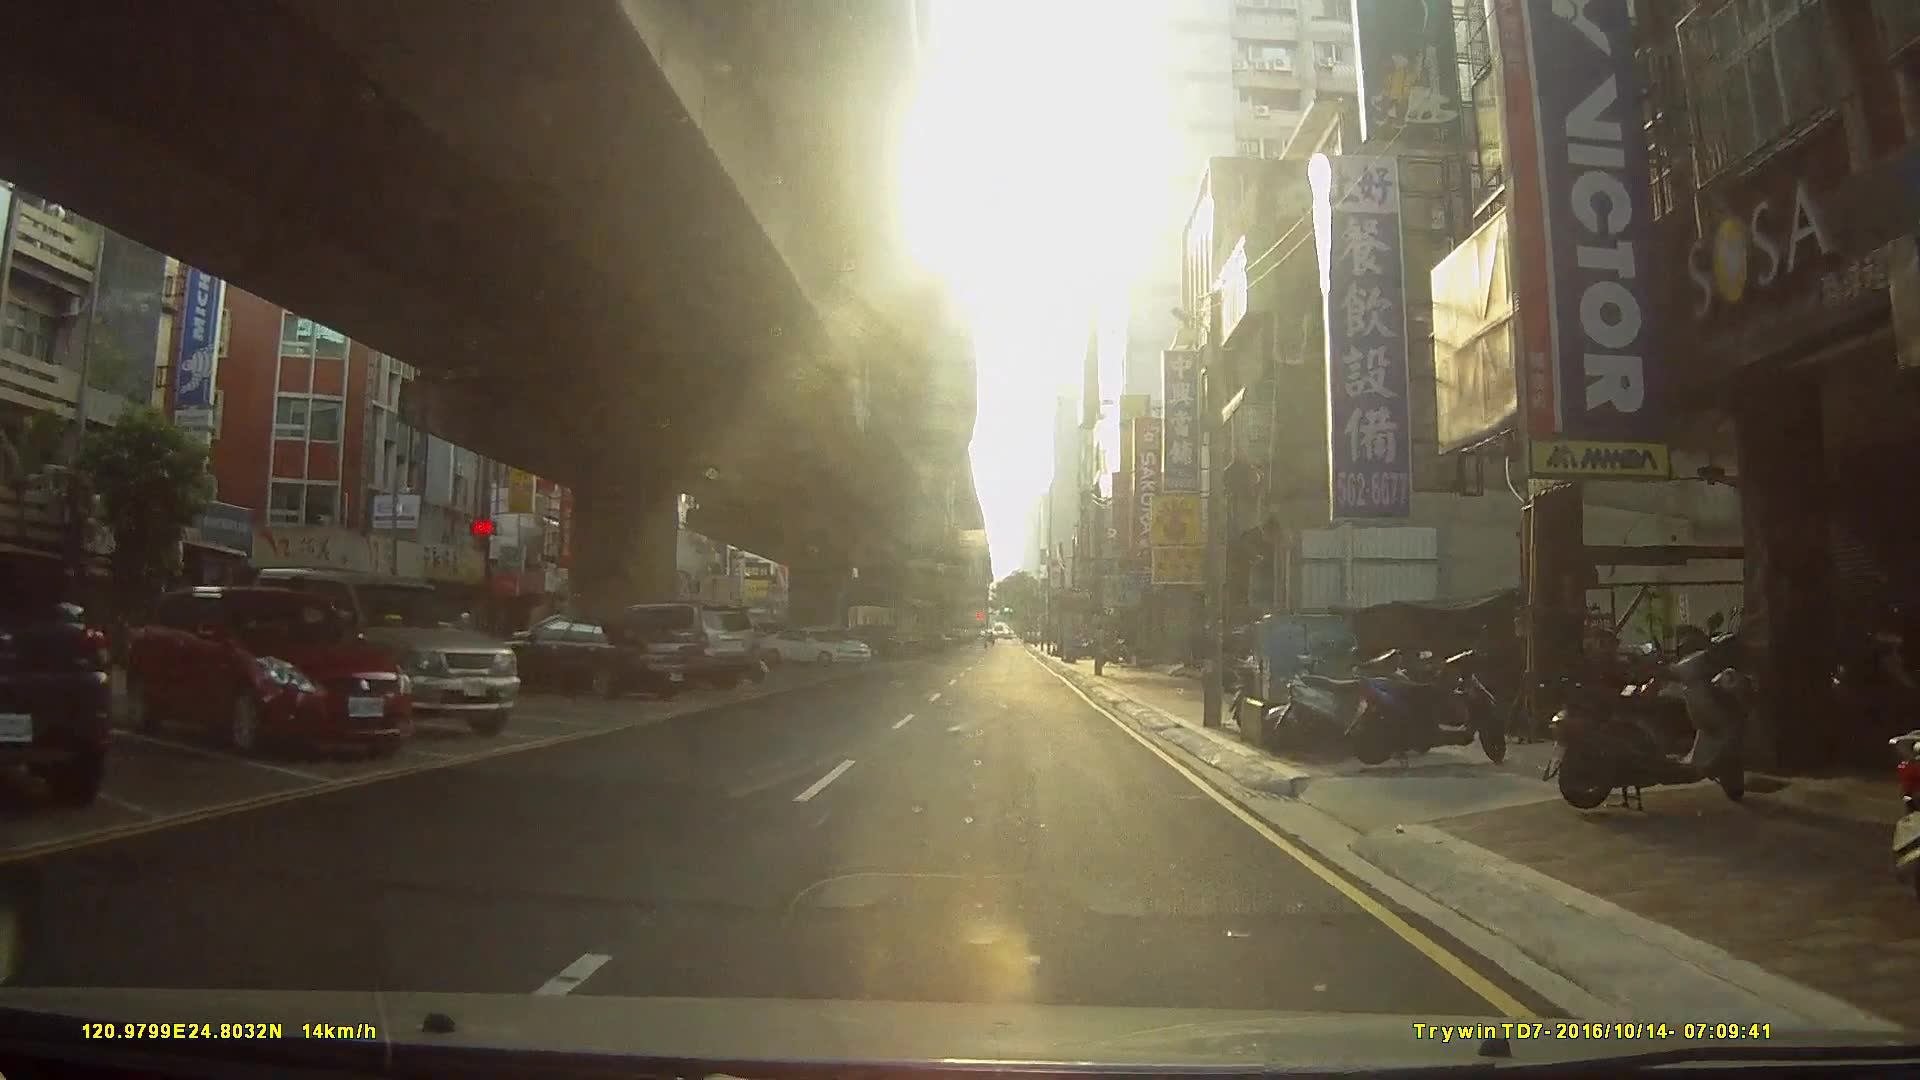vehicle: (123, 585, 414, 760), (248, 564, 521, 742), (0, 546, 113, 807), (500, 615, 700, 702), (592, 603, 756, 695), (756, 625, 873, 669)
